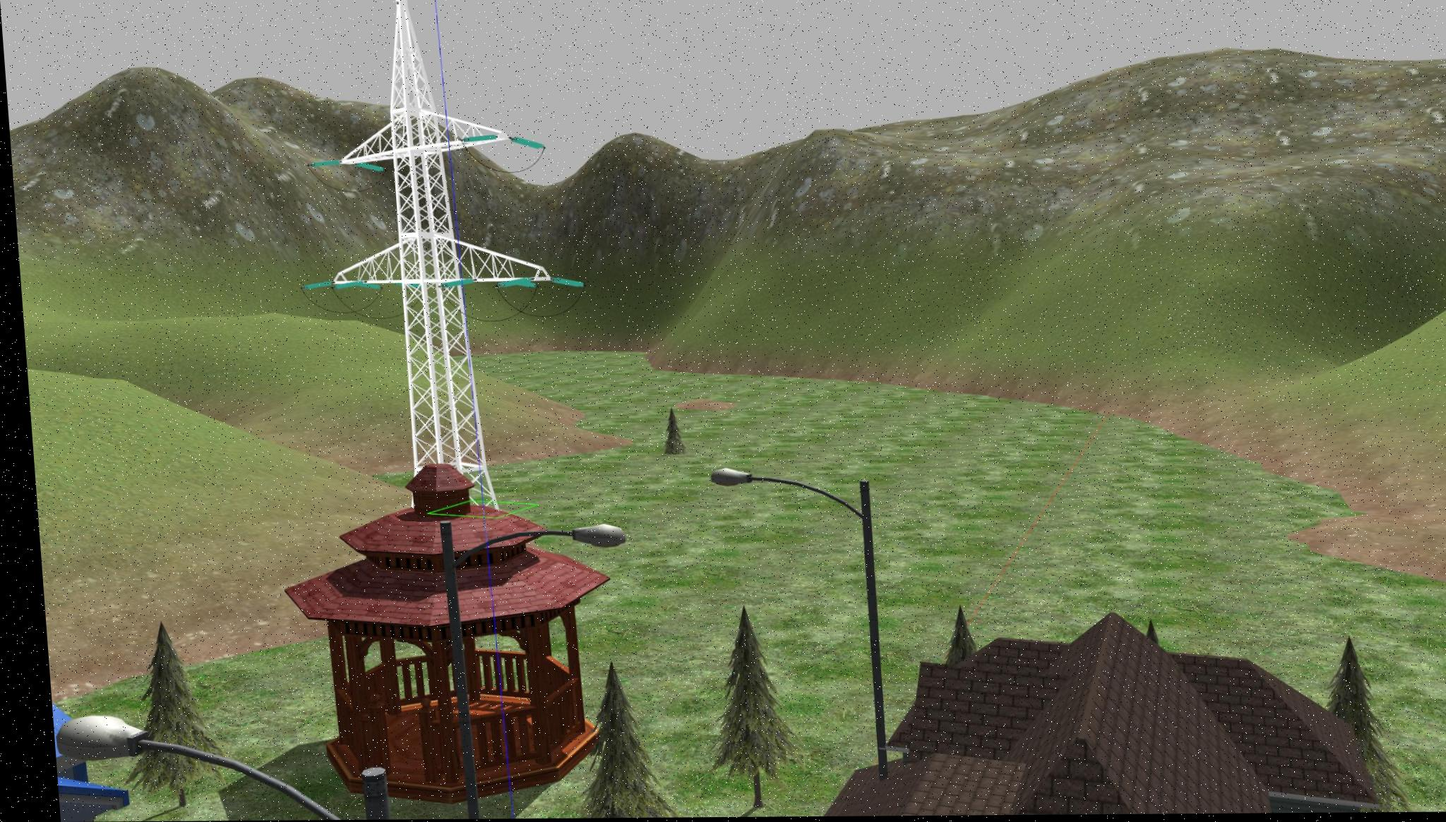tower: (312, 0, 563, 469)
